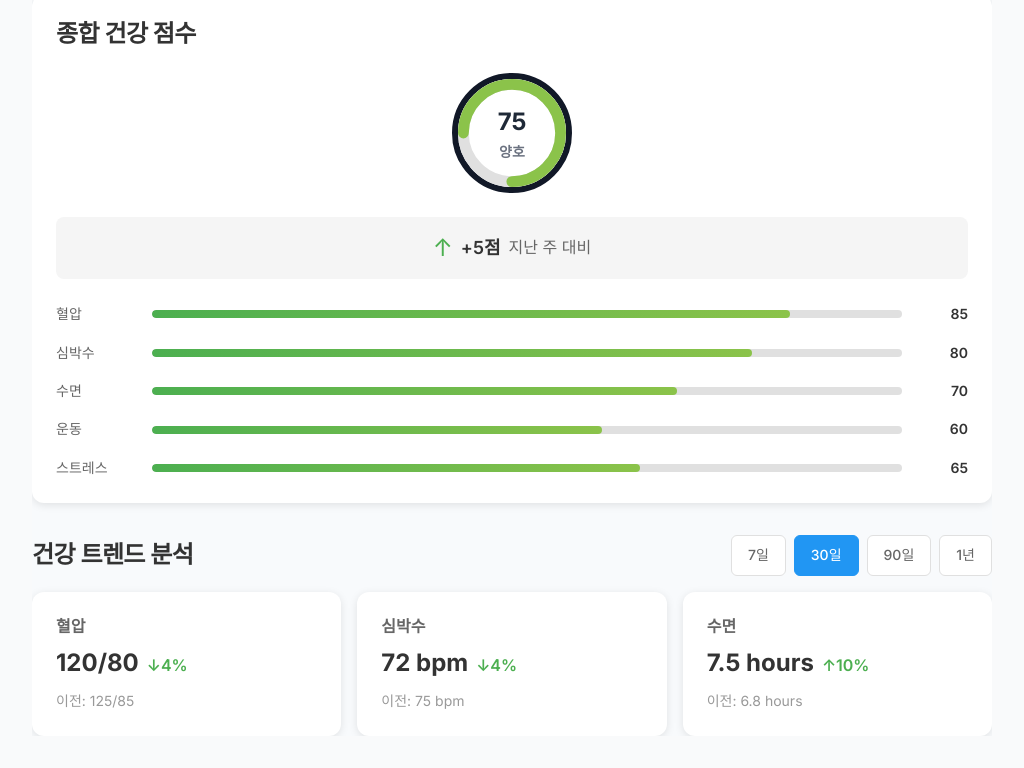
it: AIInsightsDashboard › User Interaction Tests › handles filter change error gracefully
The width and height of the screenshot is (1024, 768).
(page scrolled)
Note: Click filter
Click the button "7일".
click(758, 555)  # box [731, 535, 786, 576]
(page scrolled)
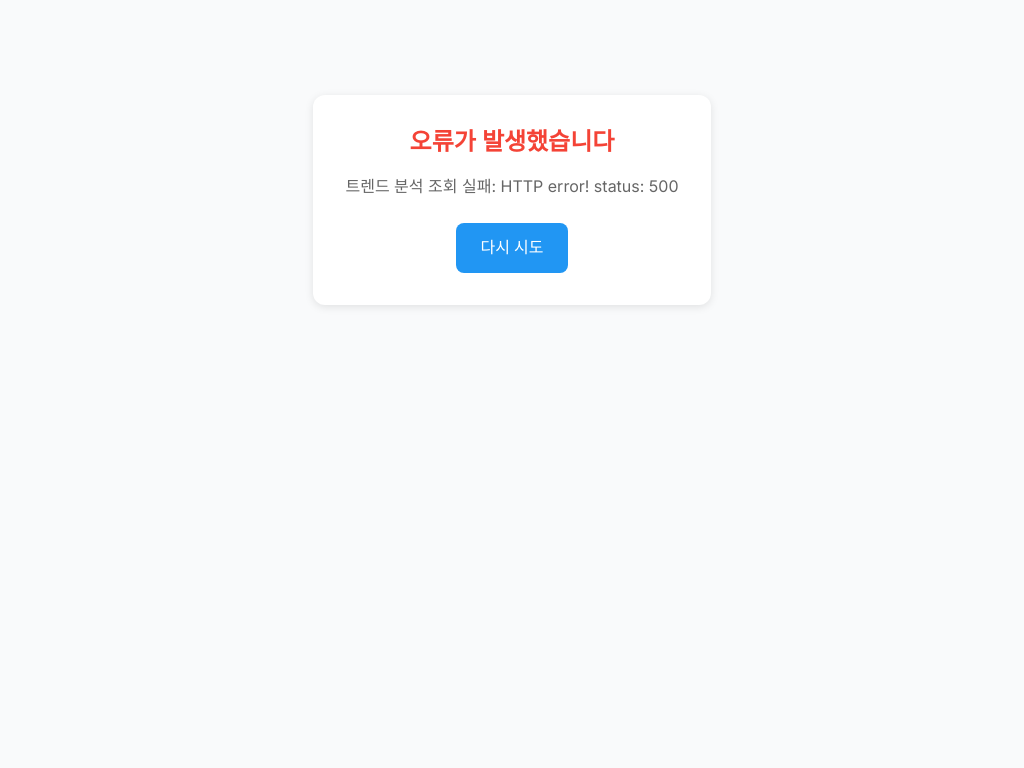
Expected: the text "트렌드 분석 조회 실패: HTTP error! status: 500" is shown, [345, 173, 678, 199]
